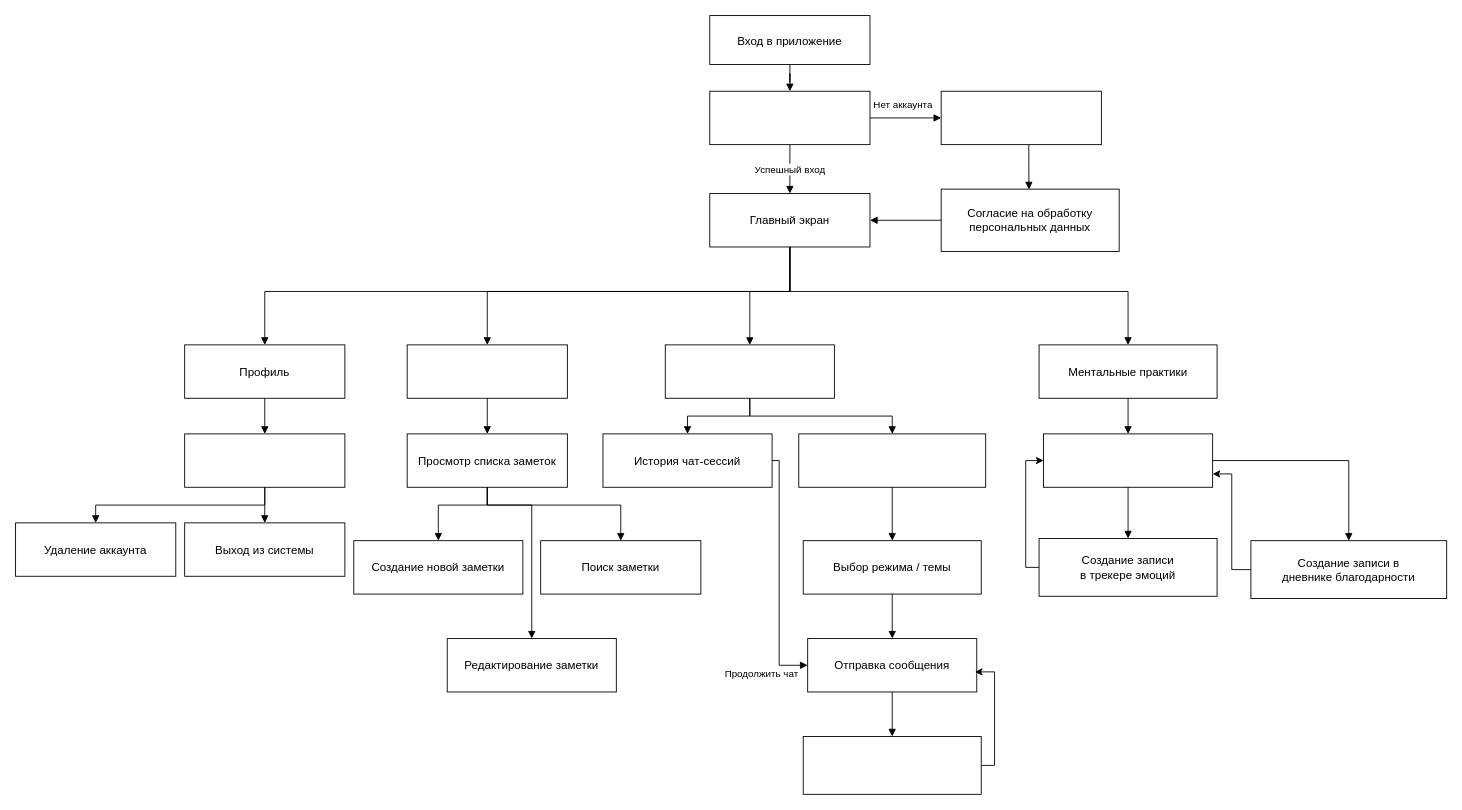
This 1462x810 diagram has some shape labels left out. The shapes that lost their labels are listed below. From the top down, each one's centre as x and y in pixels, then its label:
At [789,117]: "Авторизация".
At [1020,117]: "Регистрация".
At [486,371]: "Заметки".
At [749,371]: "Чат с AI-ментором".
At [264,460]: "Просмотр данных профиля".
At [892,460]: "Создание новой чат-сессии".
At [1128,460]: "Просмотр записей".
At [891,765]: "Ответ AI-ментора (GigaChat)".
